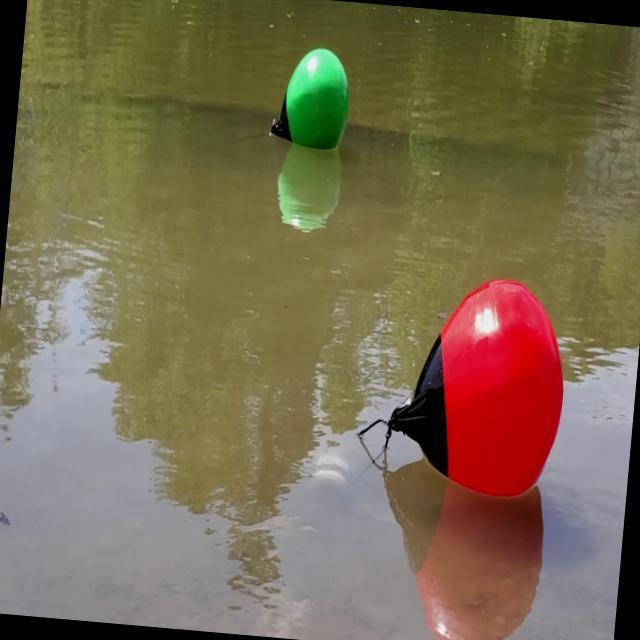buoy: (345, 265, 578, 510), (266, 42, 355, 158)
